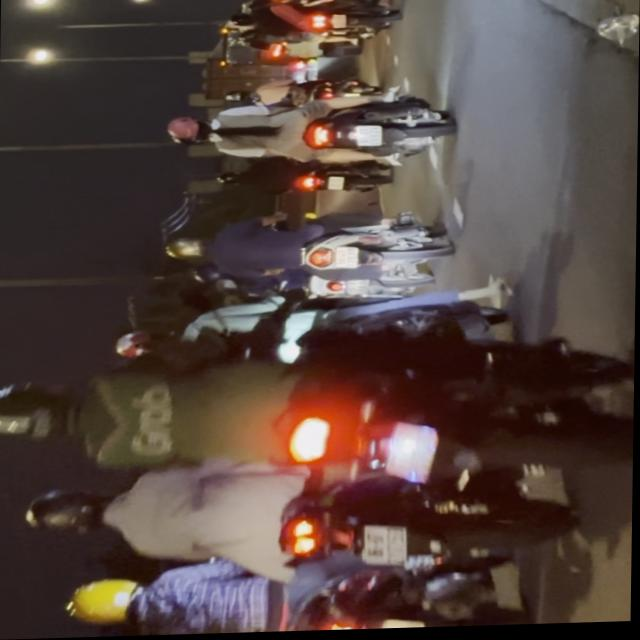helmet: (0, 383, 86, 445), (23, 488, 117, 539), (67, 578, 149, 629), (163, 116, 210, 145), (163, 239, 209, 263)
licenseplate: (0, 279, 636, 566), (18, 446, 602, 586), (62, 547, 563, 638), (160, 209, 454, 293), (161, 92, 452, 172)
nohelmet: (384, 423, 442, 486), (361, 527, 406, 568), (332, 249, 358, 272), (355, 128, 381, 150), (382, 623, 426, 631)
